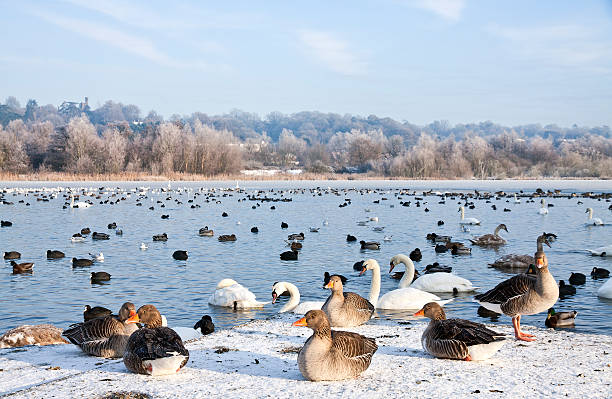goose: (477, 252, 564, 345), (291, 307, 381, 391), (412, 302, 505, 366), (360, 261, 439, 315), (64, 314, 149, 363), (388, 252, 478, 296), (321, 271, 376, 331), (205, 274, 265, 312), (268, 279, 314, 315), (473, 221, 513, 248), (541, 305, 584, 330), (577, 204, 607, 227), (5, 258, 38, 277), (80, 269, 118, 285), (453, 206, 483, 225), (65, 194, 92, 208), (357, 237, 382, 252), (534, 197, 548, 218), (89, 230, 111, 242), (285, 231, 308, 242), (196, 224, 215, 236), (513, 193, 524, 205), (106, 220, 119, 230)
